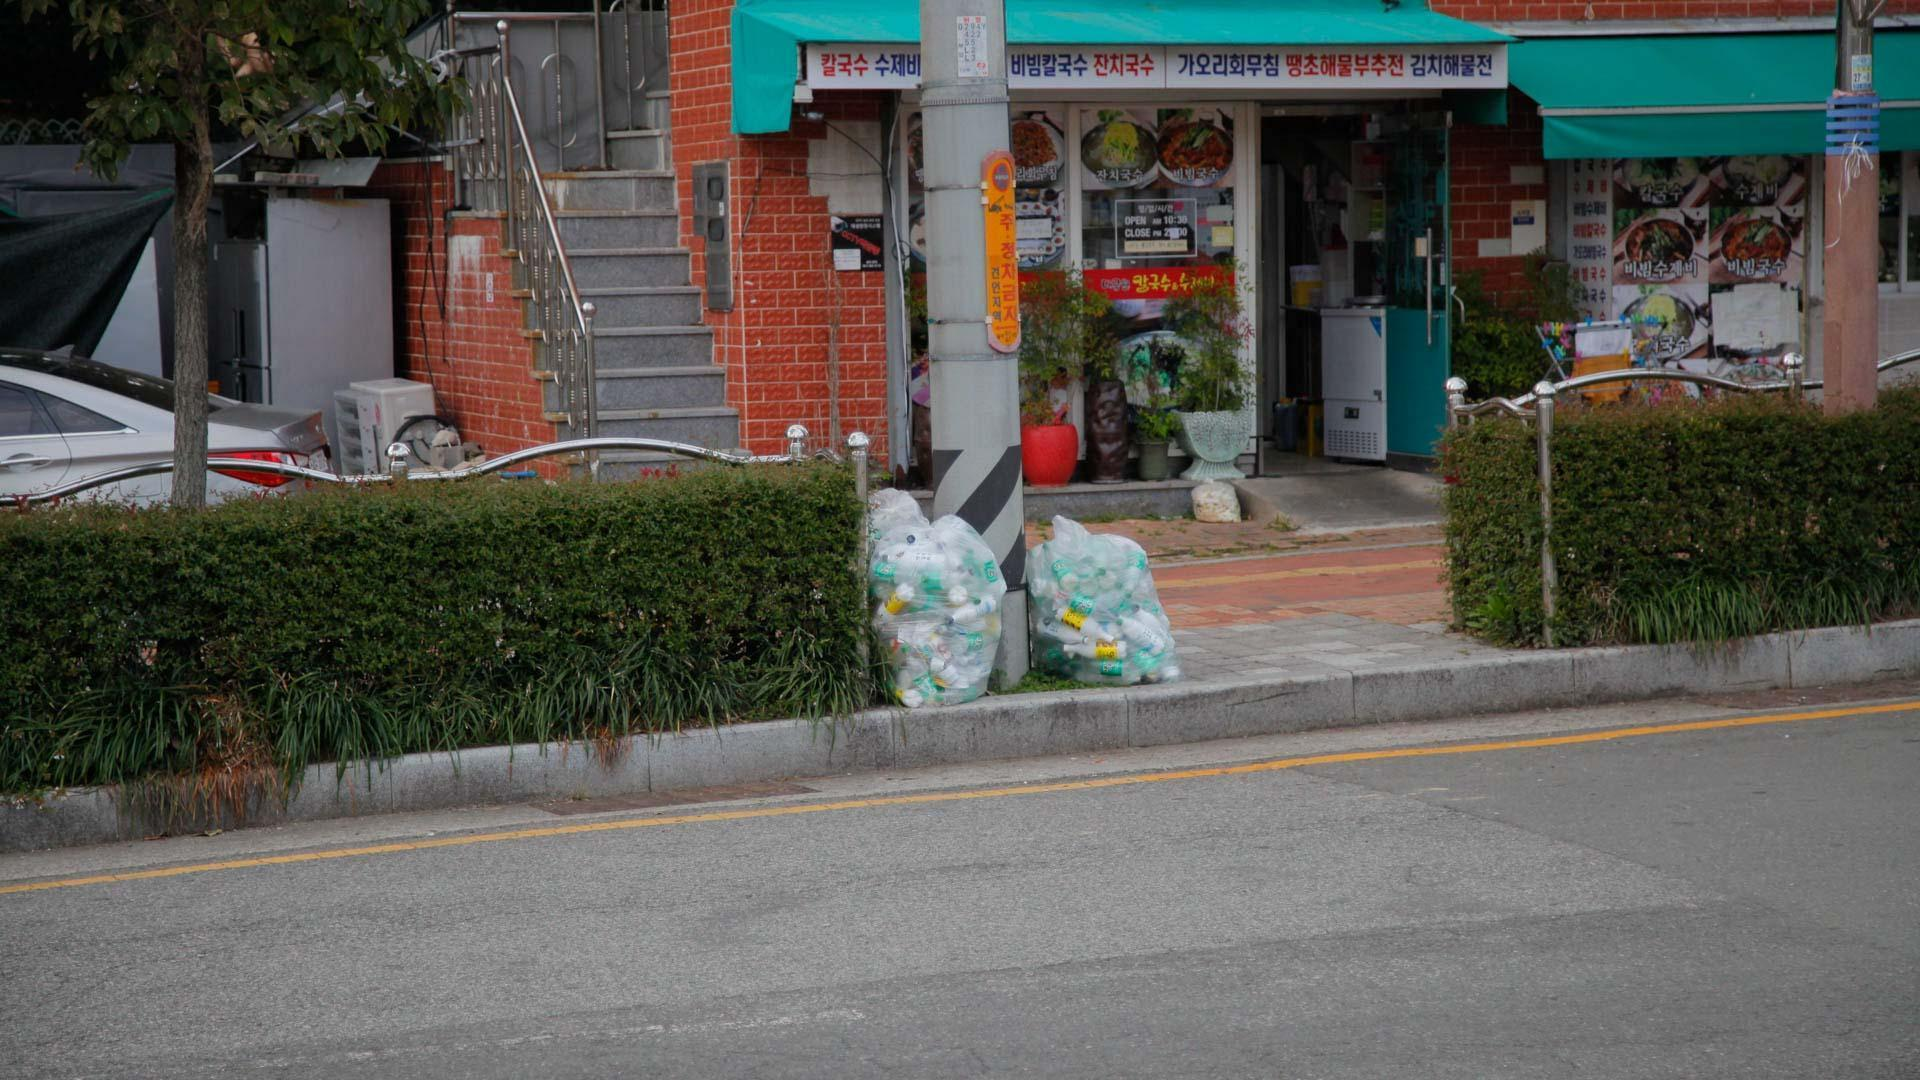white_bag: (853, 480, 1007, 709), (1019, 509, 1189, 691)
